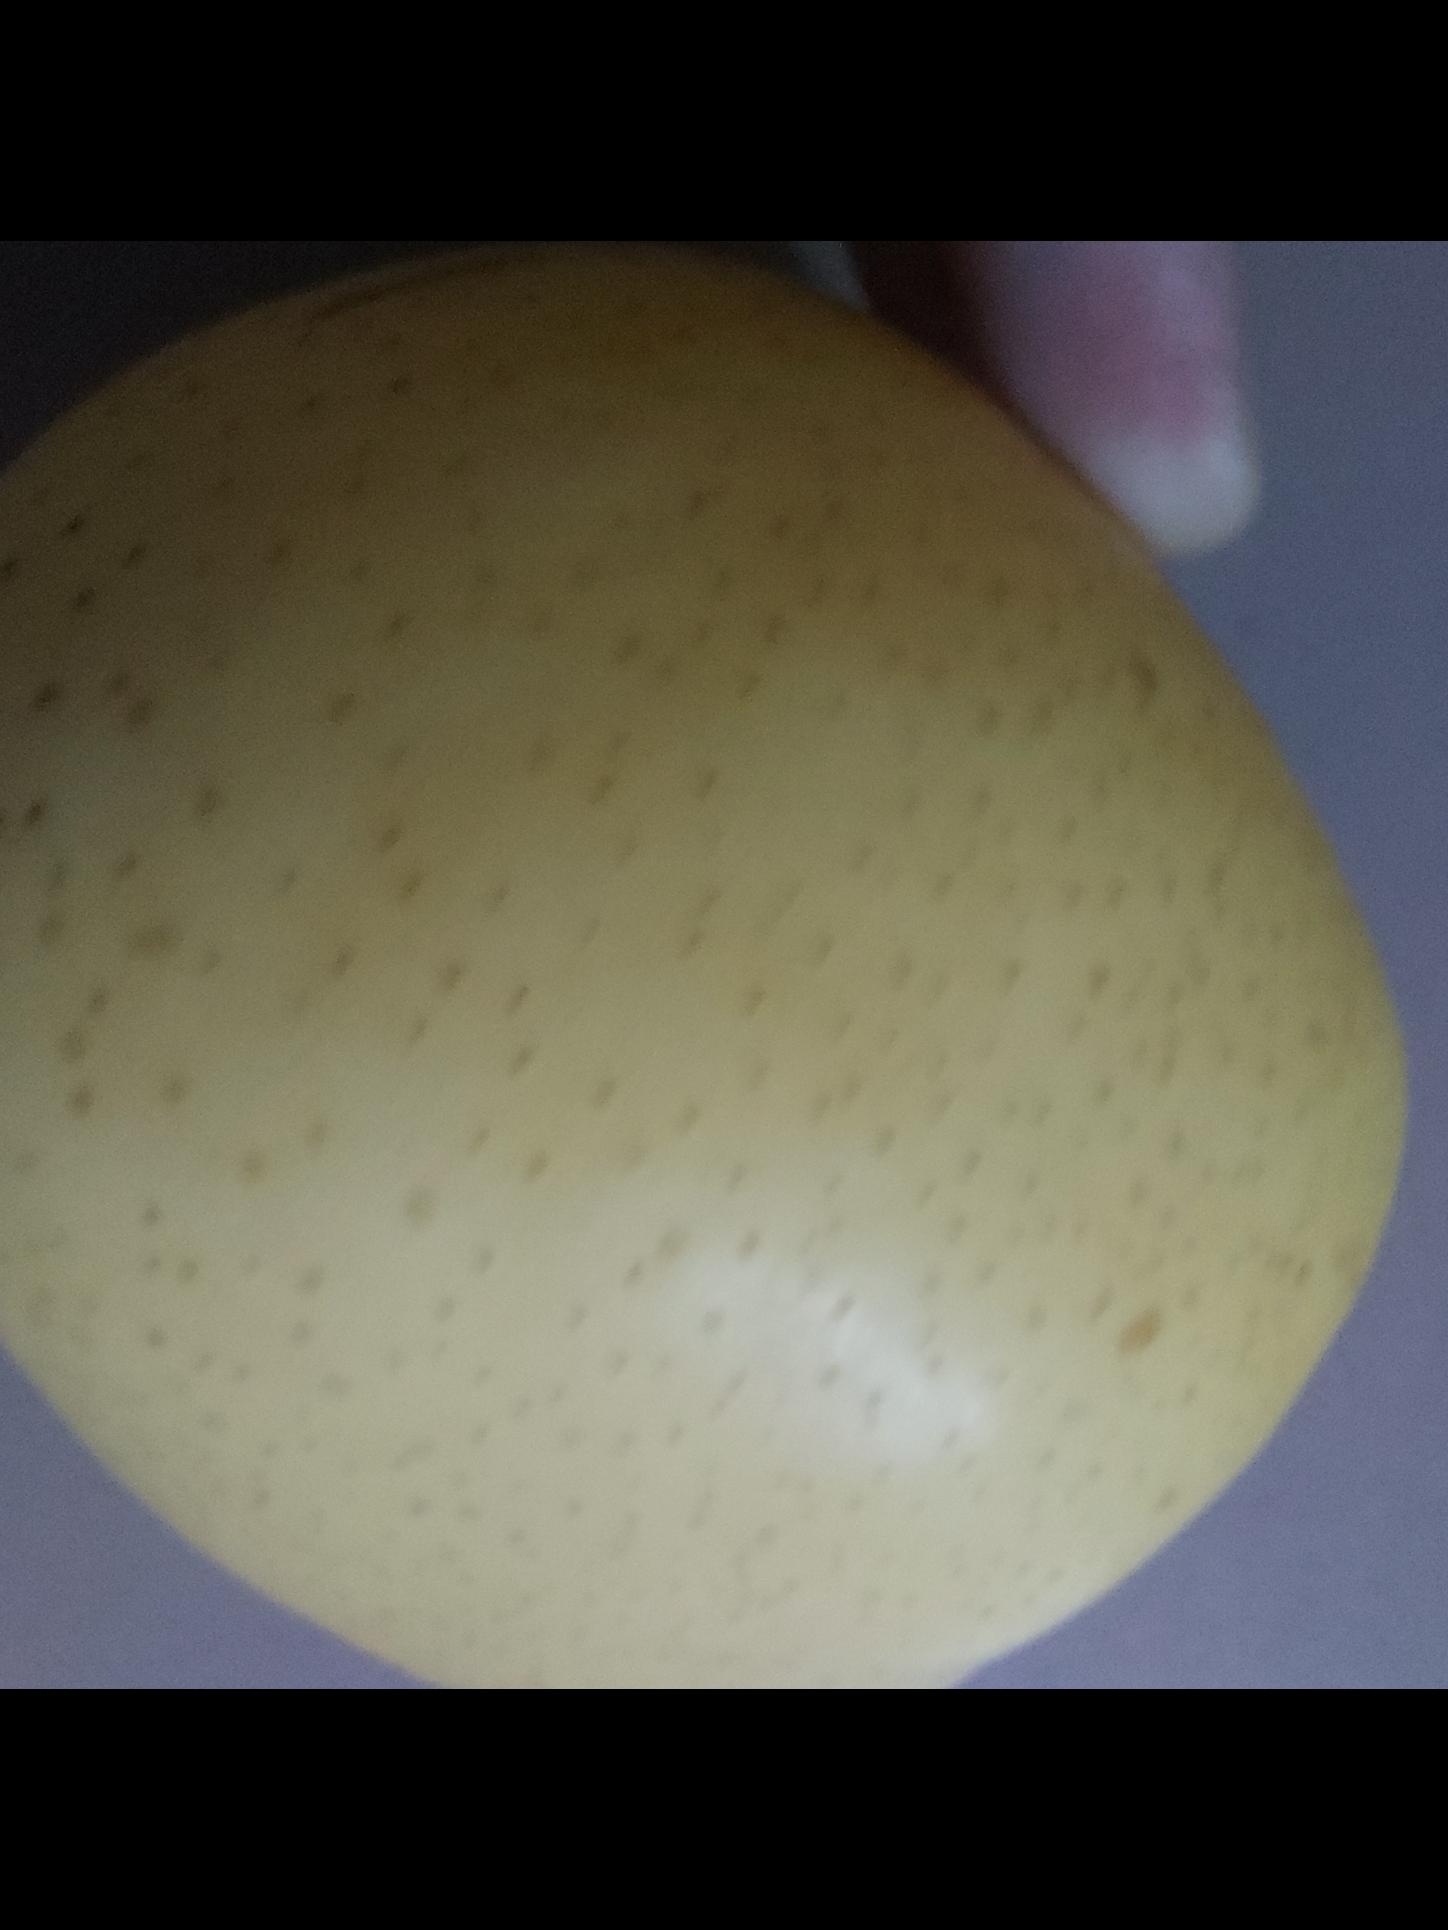Good Pear: (0, 258, 1410, 1689)
